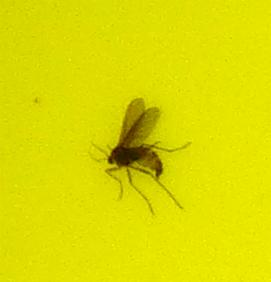Nematocera: (100, 100, 171, 182)
